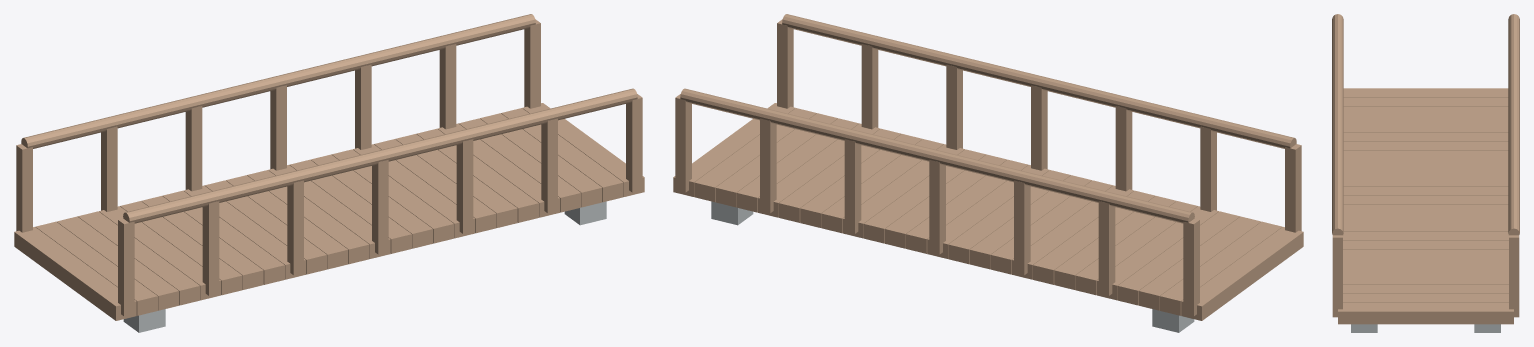
Rendered from wooden_bridge.glb.
3 views of the same model, side by side, from view 1: azimuth 30°, elevation 25°; view 2: azimuth 150°, elevation 25°; view 3: azimuth 270°, elevation 25° (orthographic). The views are drawn at different scales.
Parts seen in each view (by area): view 1: wooden_bridge_000, wooden_bridge_003, wooden_bridge_009, wooden_bridge_006, wooden_bridge_020, wooden_bridge_023, wooden_bridge_031, wooden_bridge_051, wooden_bridge_065, wooden_bridge_073, wooden_bridge_079, wooden_bridge_017 (+29 smaller); view 2: wooden_bridge_000, wooden_bridge_003, wooden_bridge_009, wooden_bridge_006, wooden_bridge_020, wooden_bridge_023, wooden_bridge_031, wooden_bridge_051, wooden_bridge_065, wooden_bridge_073, wooden_bridge_079, wooden_bridge_017 (+29 smaller); view 3: wooden_bridge_082, wooden_bridge_054, wooden_bridge_059, wooden_bridge_000, wooden_bridge_003, wooden_bridge_026, wooden_bridge_031, wooden_bridge_034, wooden_bridge_037, wooden_bridge_040, wooden_bridge_048, wooden_bridge_051 (+19 smaller).
Part boxes in pixels (left/top/right/bottom): wooden_bridge_000: left=14, top=227, right=136, bottom=320; wooden_bridge_003: left=35, top=221, right=157, bottom=315; wooden_bridge_009: left=77, top=211, right=200, bottom=305; wooden_bridge_006: left=56, top=216, right=178, bottom=310; wooden_bridge_020: left=141, top=196, right=263, bottom=289; wooden_bridge_023: left=162, top=190, right=284, bottom=284; wooden_bridge_031: left=204, top=180, right=327, bottom=274; wooden_bridge_051: left=331, top=149, right=454, bottom=243; wooden_bridge_065: left=416, top=128, right=538, bottom=222; wooden_bridge_073: left=458, top=118, right=581, bottom=212; wooden_bridge_079: left=501, top=108, right=623, bottom=202; wooden_bridge_017: left=120, top=201, right=242, bottom=295; wooden_bridge_000: left=1181, top=227, right=1303, bottom=320; wooden_bridge_003: left=1160, top=221, right=1282, bottom=315; wooden_bridge_009: left=1117, top=211, right=1240, bottom=305; wooden_bridge_006: left=1139, top=216, right=1261, bottom=310; wooden_bridge_020: left=1054, top=196, right=1176, bottom=289; wooden_bridge_023: left=1033, top=190, right=1155, bottom=284; wooden_bridge_031: left=990, top=180, right=1113, bottom=274; wooden_bridge_051: left=863, top=149, right=986, bottom=243; wooden_bridge_065: left=779, top=128, right=901, bottom=222; wooden_bridge_073: left=736, top=118, right=859, bottom=212; wooden_bridge_079: left=694, top=108, right=816, bottom=202; wooden_bridge_017: left=1075, top=201, right=1197, bottom=295; wooden_bridge_082: left=1338, top=303, right=1513, bottom=324; wooden_bridge_054: left=1343, top=231, right=1508, bottom=240; wooden_bridge_059: left=1343, top=240, right=1508, bottom=249; wooden_bridge_000: left=1343, top=88, right=1508, bottom=97; wooden_bridge_003: left=1343, top=97, right=1508, bottom=106; wooden_bridge_026: left=1343, top=159, right=1508, bottom=168; wooden_bridge_031: left=1343, top=168, right=1508, bottom=177; wooden_bridge_034: left=1343, top=177, right=1508, bottom=186; wooden_bridge_037: left=1343, top=186, right=1508, bottom=195; wooden_bridge_040: left=1343, top=195, right=1508, bottom=204; wooden_bridge_048: left=1343, top=213, right=1508, bottom=222; wooden_bridge_051: left=1343, top=222, right=1508, bottom=231.
Bounding box in the file's own units: 6 × 1.42 × 2.13.
